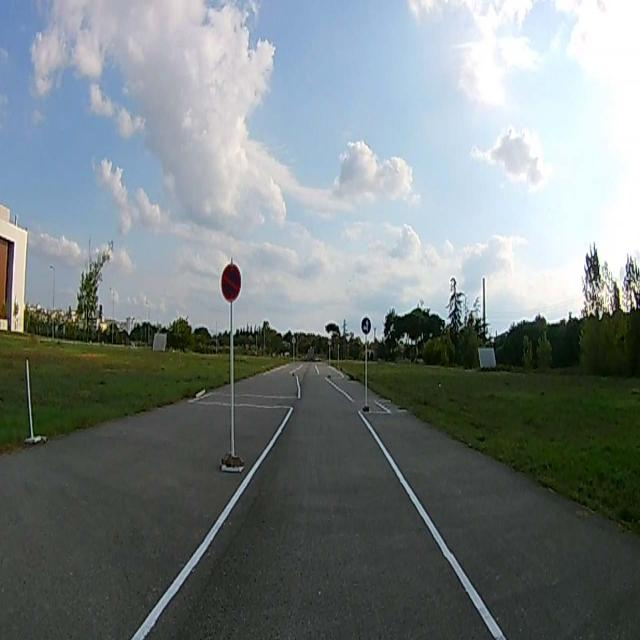parkyasak: (221, 262, 241, 302)
